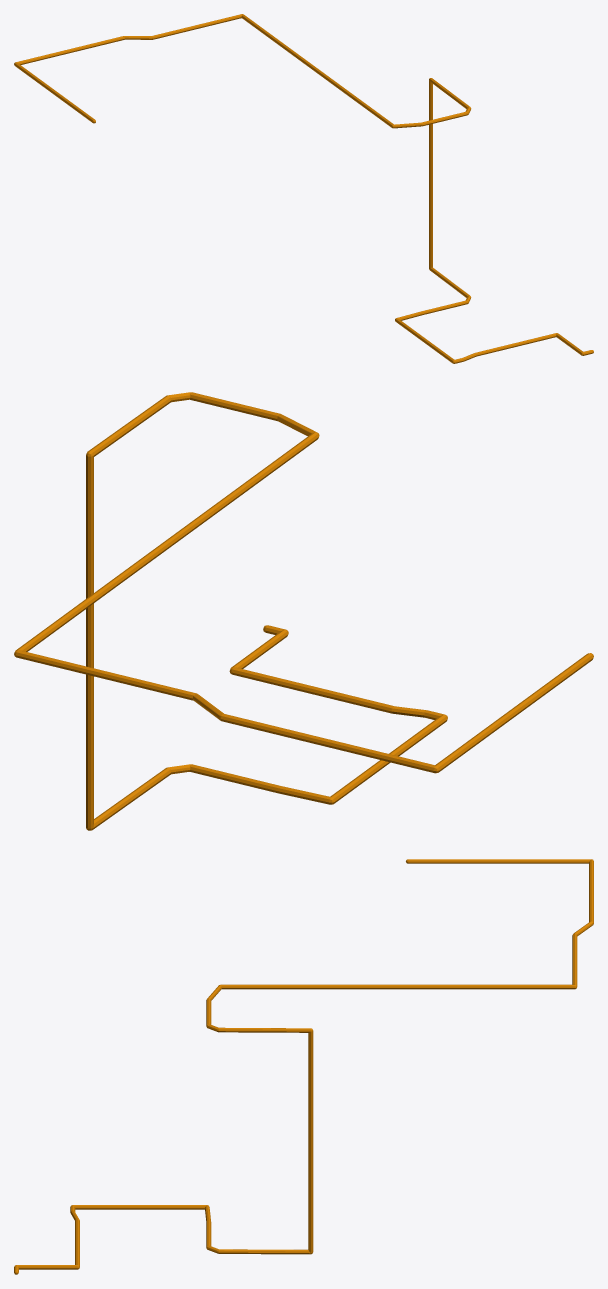
3 views of the same model, one above another, from view 1: azimuth 30°, elevation 25°; view 2: azimuth 150°, elevation 25°; view 3: azimuth 270°, elevation 25° (orthographic). The views are drawn at different scales.
Bounding box in the file's own units: 1854 × 1020 × 2373.
